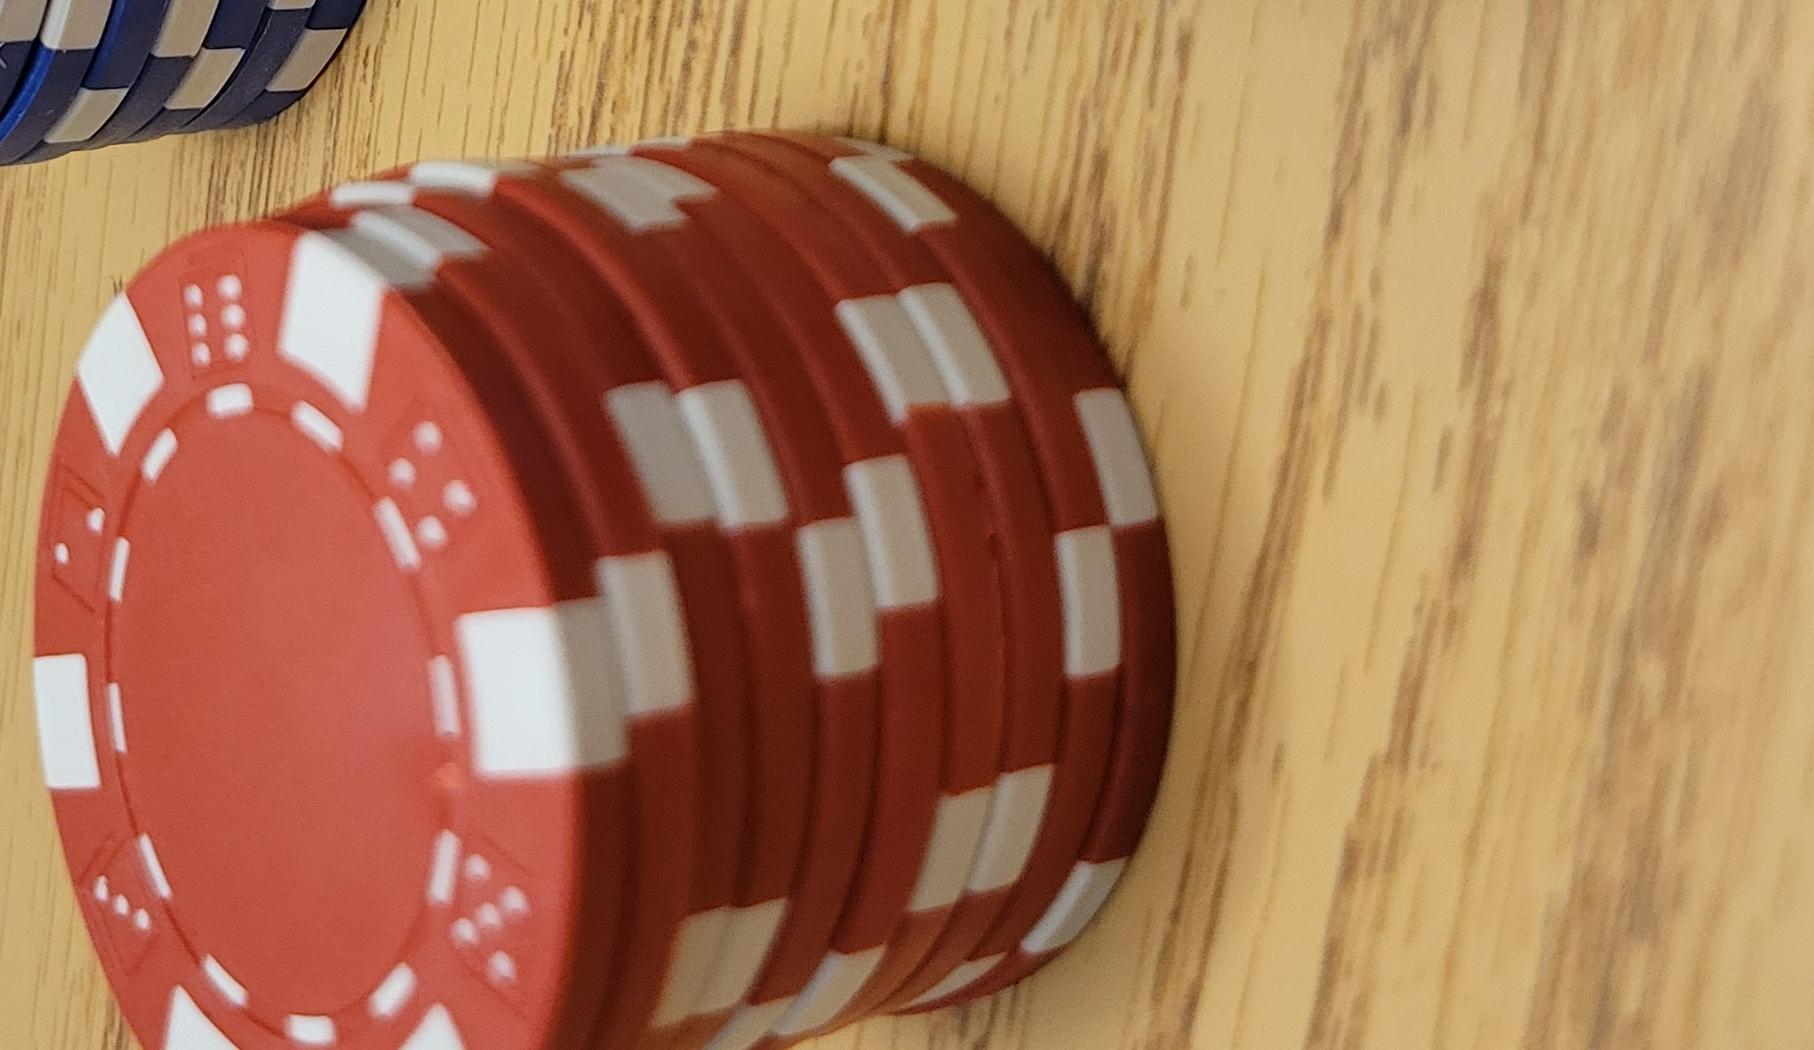Chip: (1, 562, 958, 1050)
